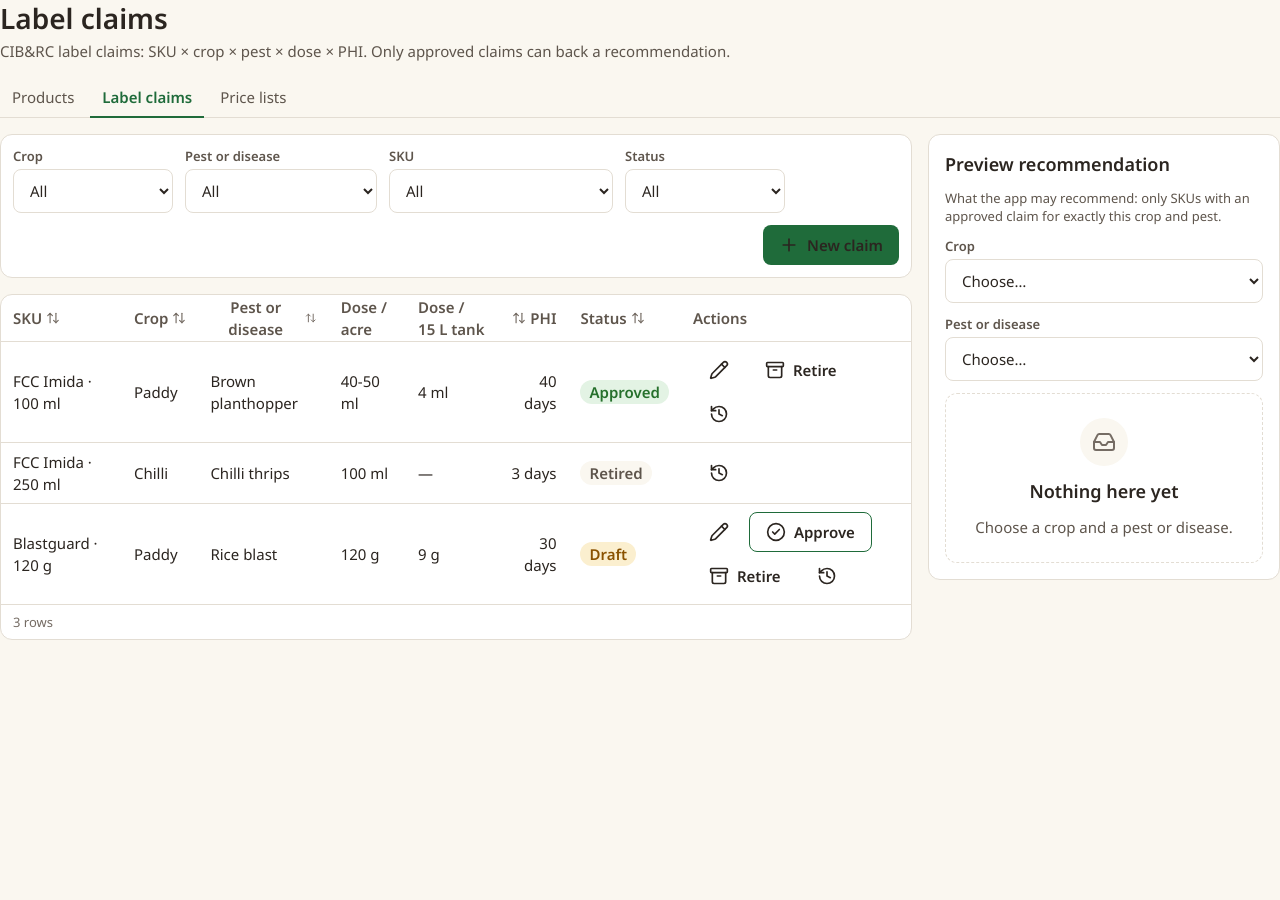
Test case: C51 label claims editor › shows Approve only to the agronomist, with the regulatory confirmation
Click the button "Approve" at [810, 532], box x1=749 y1=512 x2=872 y2=552
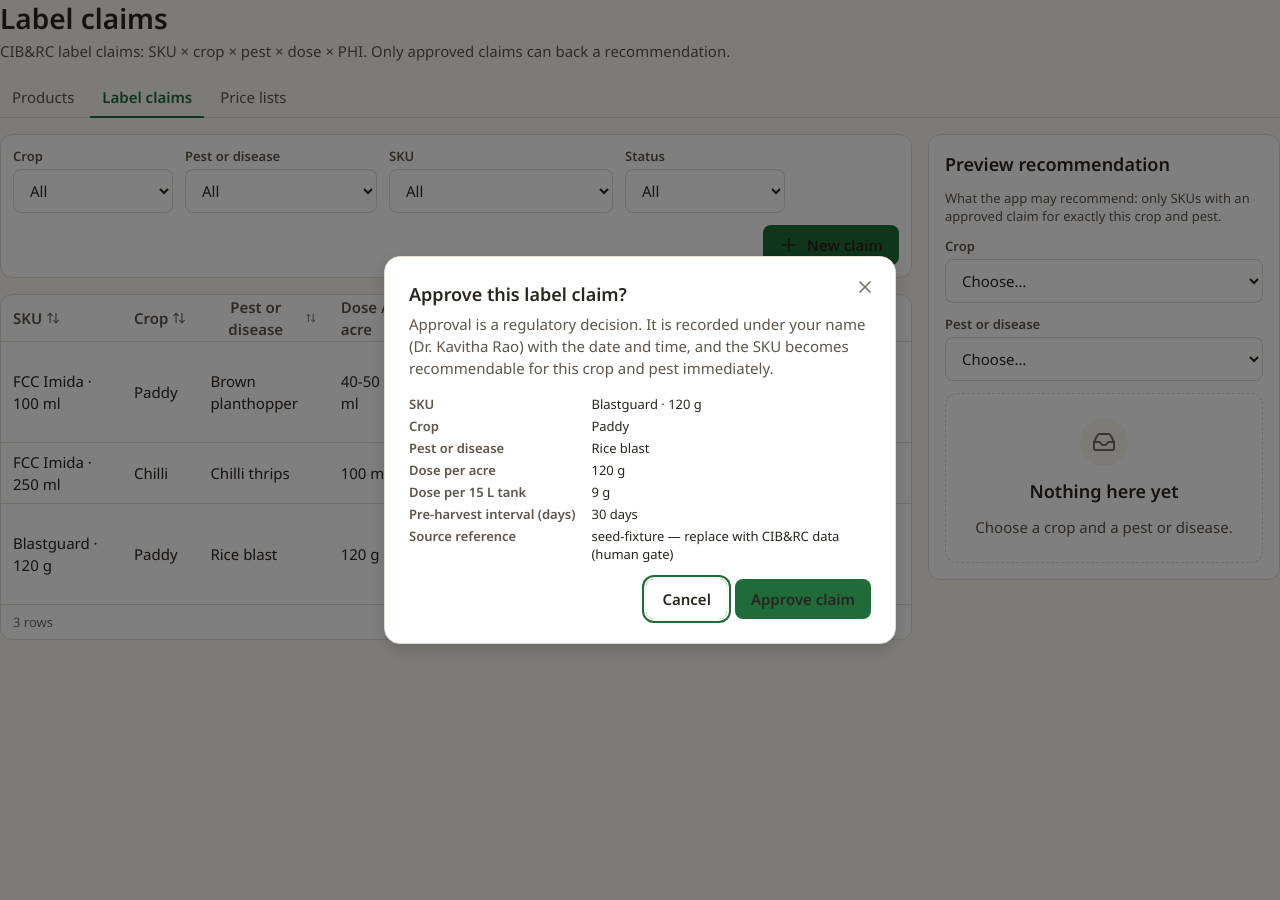
Check: the dialog shows "Approval is a regulatory decision", box x1=409 y1=314 x2=866 y2=378
Check: the dialog shows "Dr. Kavitha Rao", box x1=409 y1=314 x2=866 y2=378
Click the button "Approve claim" at [803, 599], box x1=735 y1=579 x2=871 y2=619
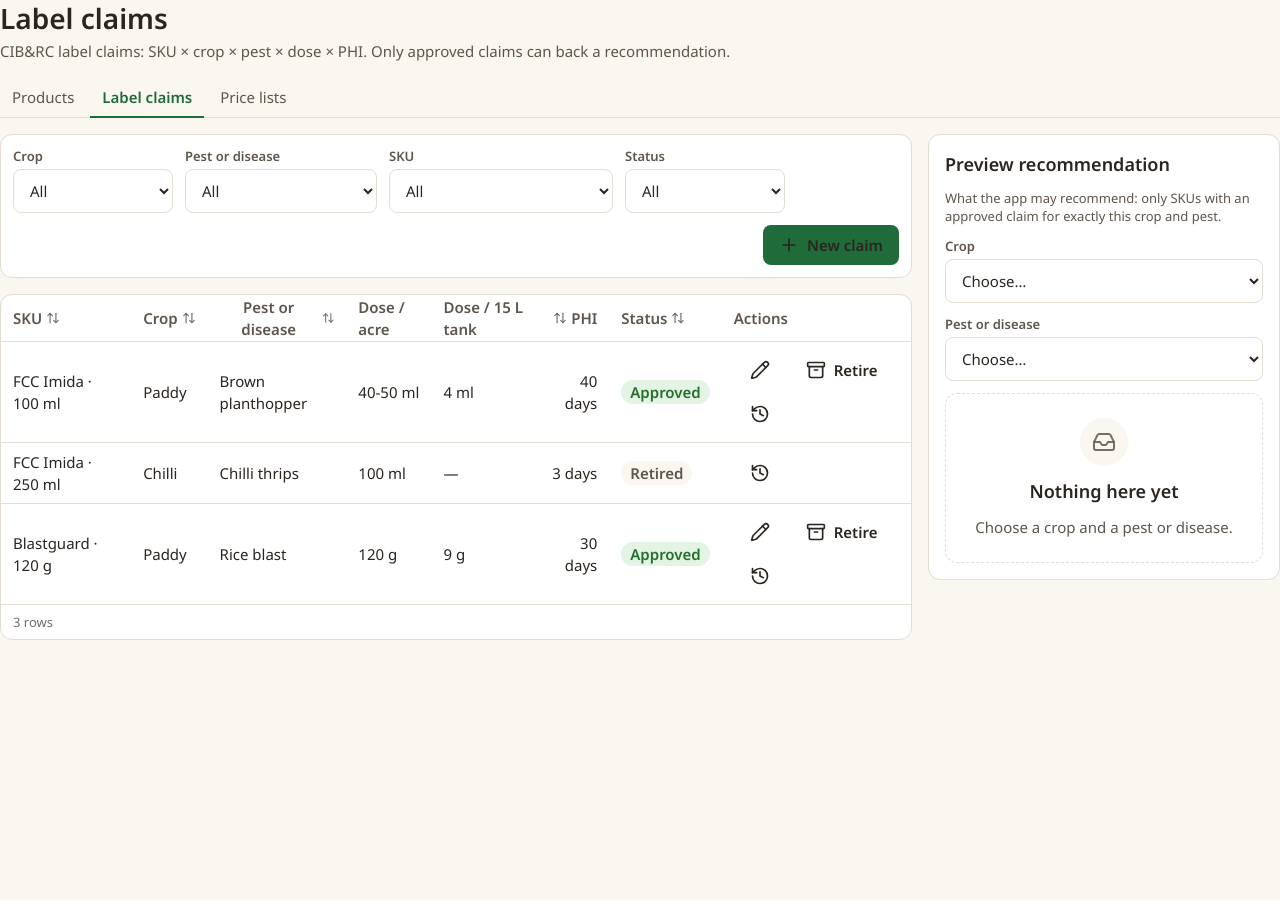
Check: the number of elements with test id "claim-status-approved" is 2, box x1=621 y1=380 x2=710 y2=404; x1=621 y1=542 x2=710 y2=566
